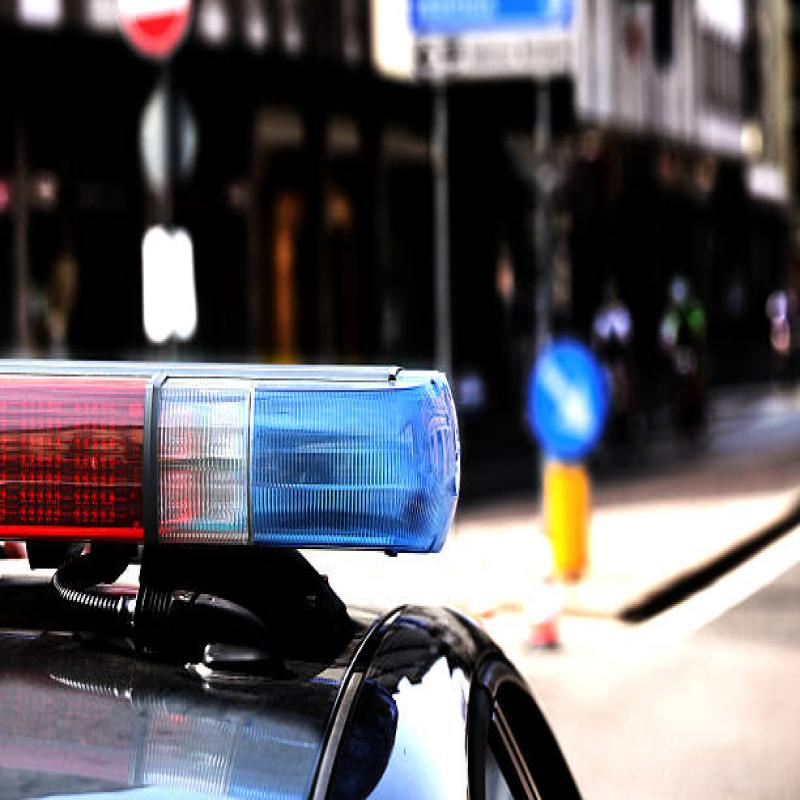AmbulanceSiren: (0, 339, 468, 584)
